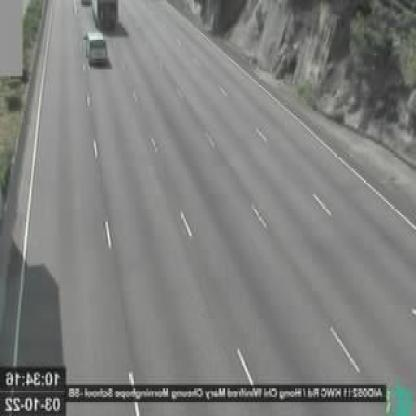Car: (84, 31, 108, 64)
